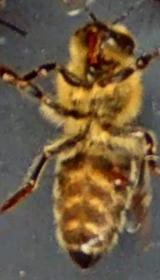varroa_mite: (104, 169, 133, 196)
